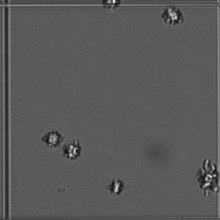Living Cell: (194, 156, 220, 196), (38, 126, 66, 154), (161, 5, 187, 31), (105, 175, 130, 200), (63, 138, 86, 161), (97, 1, 124, 11)
